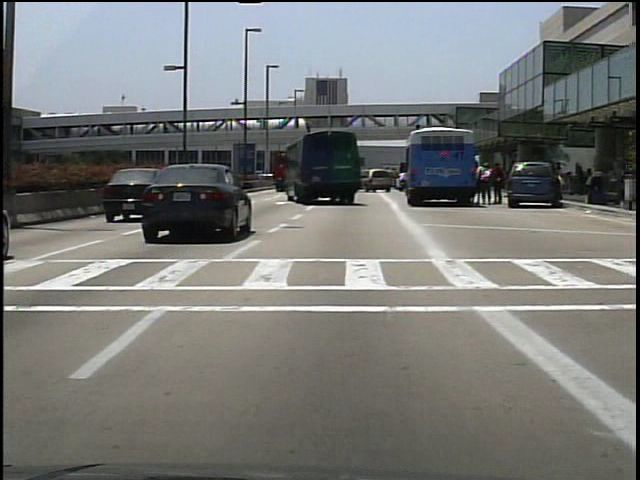person: (476, 160, 492, 205), (488, 163, 503, 207), (555, 165, 568, 204)
